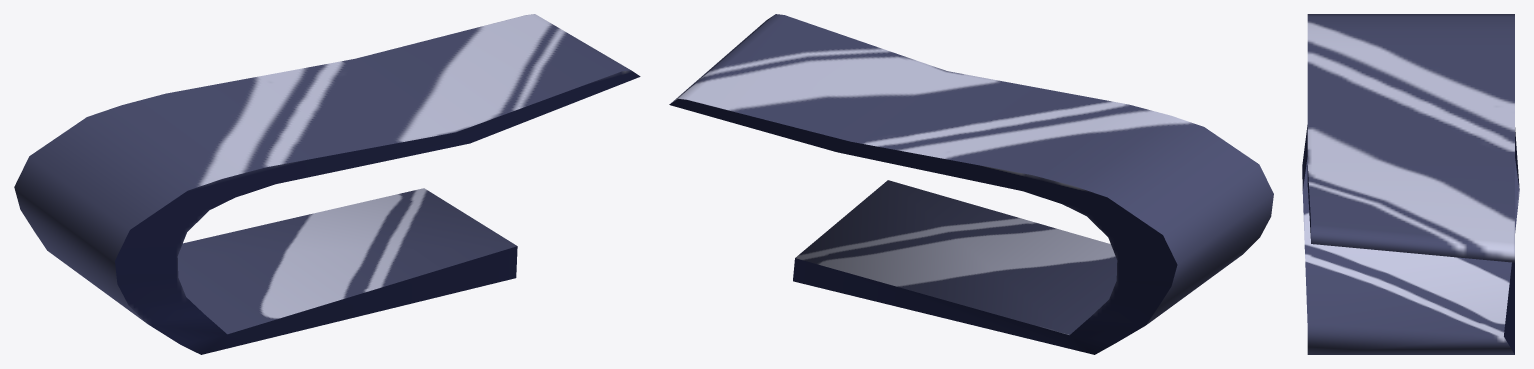
File: SM_SM_DesignDesk.fbx
3 renders of one model, left to right at view 1: azimuth 30°, elevation 25°; view 2: azimuth 150°, elevation 25°; view 3: azimuth 270°, elevation 25°, orthographic. The views are drawn at different scales.
Visible parts, largest first — view 1: SHELF.042; view 2: SHELF.042; view 3: SHELF.042.
Part boxes in pixels (x1,y1,x2,y2): SHELF.042: [14, 14, 640, 354]; SHELF.042: [669, 14, 1273, 354]; SHELF.042: [1302, 14, 1519, 354].
Size of the model in its own units: 191 by 61.76 by 65.93.
